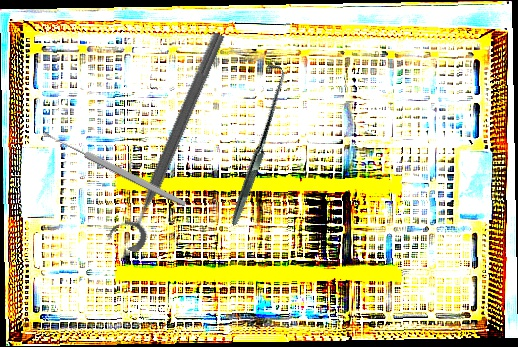Fixation Ring: (104, 24, 232, 255)
Hook Surgical: (171, 60, 339, 226)
Surgical Spoon: (41, 128, 188, 209)
